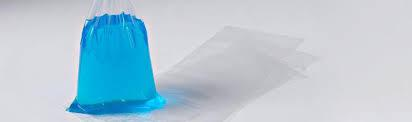Plastic: (65, 0, 170, 121)
